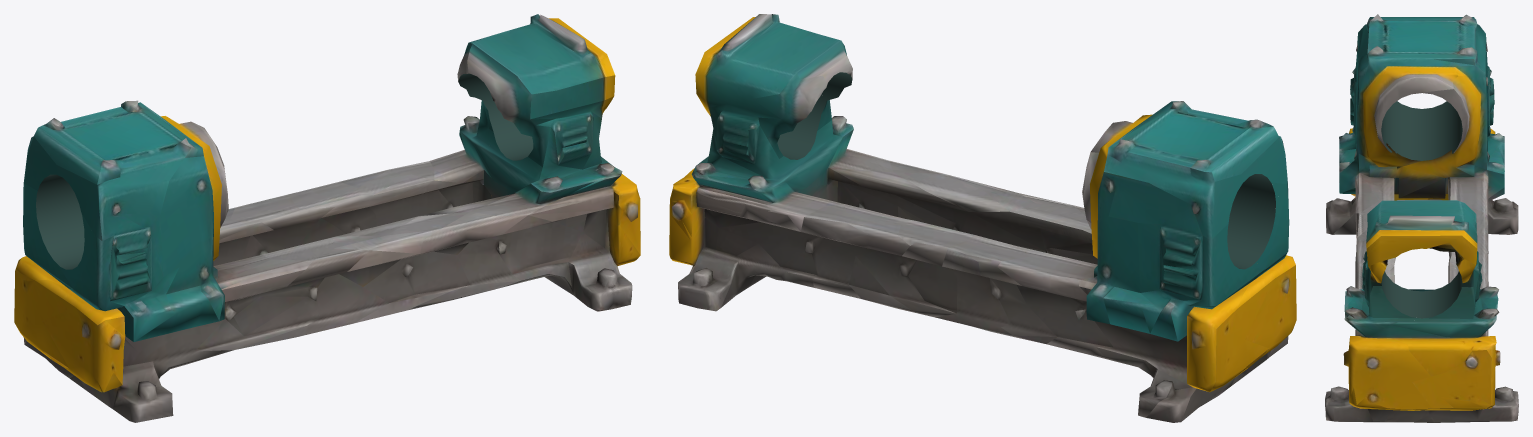
File: lathe.glb
3 renders of one model, left to right at view 1: azimuth 30°, elevation 25°; view 2: azimuth 150°, elevation 25°; view 3: azimuth 270°, elevation 25°, orthographic. The views are drawn at different scales.
Parts seen in each view (by area): view 1: lathe-body; view 2: lathe-body; view 3: lathe-body.
Part boxes in pixels (<box>): lathe-body: <box>14,14,640,422</box>; lathe-body: <box>669,14,1296,422</box>; lathe-body: <box>1325,14,1518,422</box>.
Bounding box in the file's own units: 2.6 × 1.1 × 0.95.
1 material, 1 textured.
